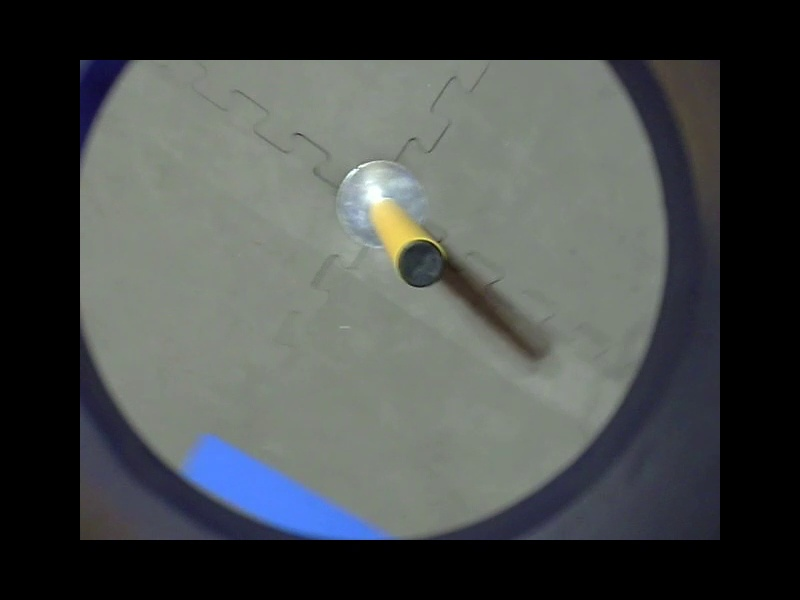tip: (389, 228, 448, 291)
